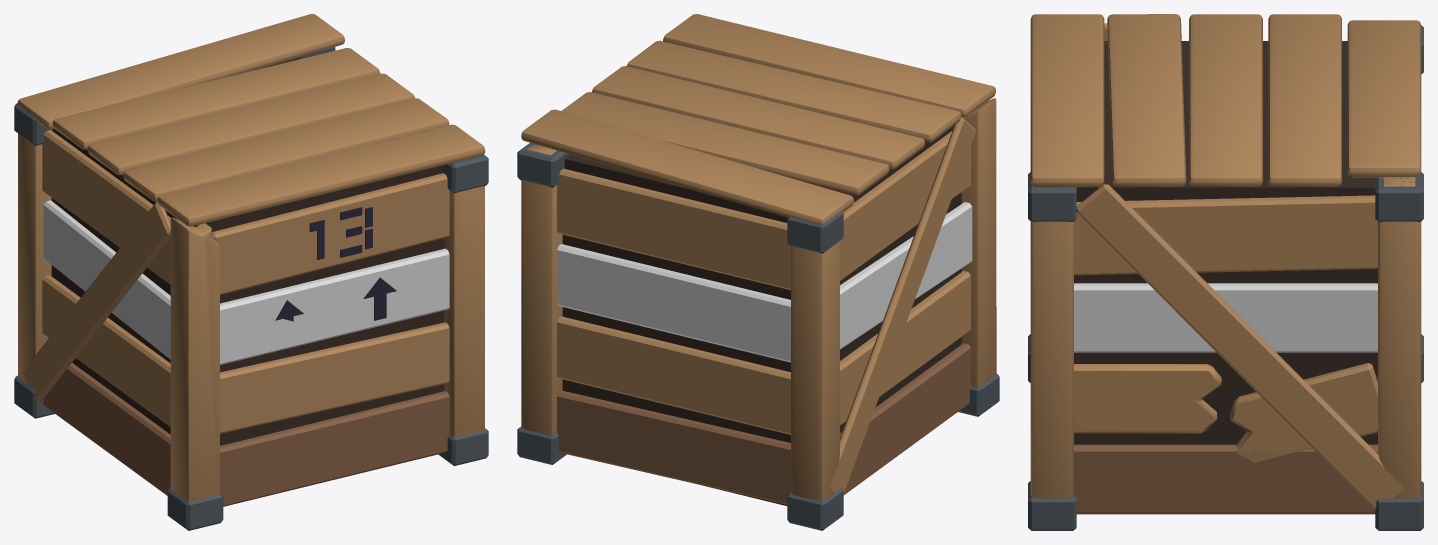
Rendered from crate.glb.
3 renders of one model, left to right at view 1: azimuth 30°, elevation 25°; view 2: azimuth 150°, elevation 25°; view 3: azimuth 270°, elevation 25°, orthographic. The views are drawn at different scales.
Visible parts, largest first — view 1: crate; view 2: crate; view 3: crate.
Boxes of the visible parts, x1,y1,x2,y2 form: crate: [14, 14, 488, 530]; crate: [517, 14, 999, 530]; crate: [1028, 14, 1423, 530].
Bounding box in the file's own units: 0.912 × 0.9244 × 0.912.
